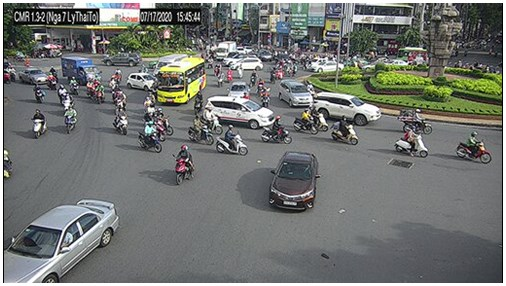xe_buyt: (156, 56, 207, 104)
xe_hoi: (5, 198, 121, 282), (269, 151, 317, 211), (315, 91, 381, 126), (206, 97, 273, 129), (279, 80, 311, 106), (18, 67, 50, 85), (127, 73, 158, 91), (104, 53, 140, 66), (312, 60, 344, 72), (232, 57, 261, 70), (230, 81, 248, 98)
xe_may: (395, 126, 429, 160), (456, 132, 491, 165), (215, 125, 249, 158), (259, 116, 291, 145), (399, 107, 432, 134), (189, 113, 213, 146), (142, 109, 165, 143), (175, 145, 193, 187), (200, 105, 224, 136), (333, 115, 357, 146), (139, 123, 162, 154), (294, 109, 317, 136), (310, 105, 330, 133), (113, 104, 129, 136), (32, 108, 48, 139), (63, 105, 78, 136), (58, 82, 71, 107), (114, 89, 128, 112), (34, 82, 45, 105), (193, 92, 204, 114), (95, 80, 105, 103), (267, 65, 277, 84), (71, 75, 80, 96), (261, 86, 270, 107), (48, 72, 58, 90), (114, 66, 122, 84), (143, 97, 151, 113), (251, 69, 258, 87), (217, 70, 224, 87)
xe_tai: (60, 56, 103, 85), (216, 40, 236, 59)
